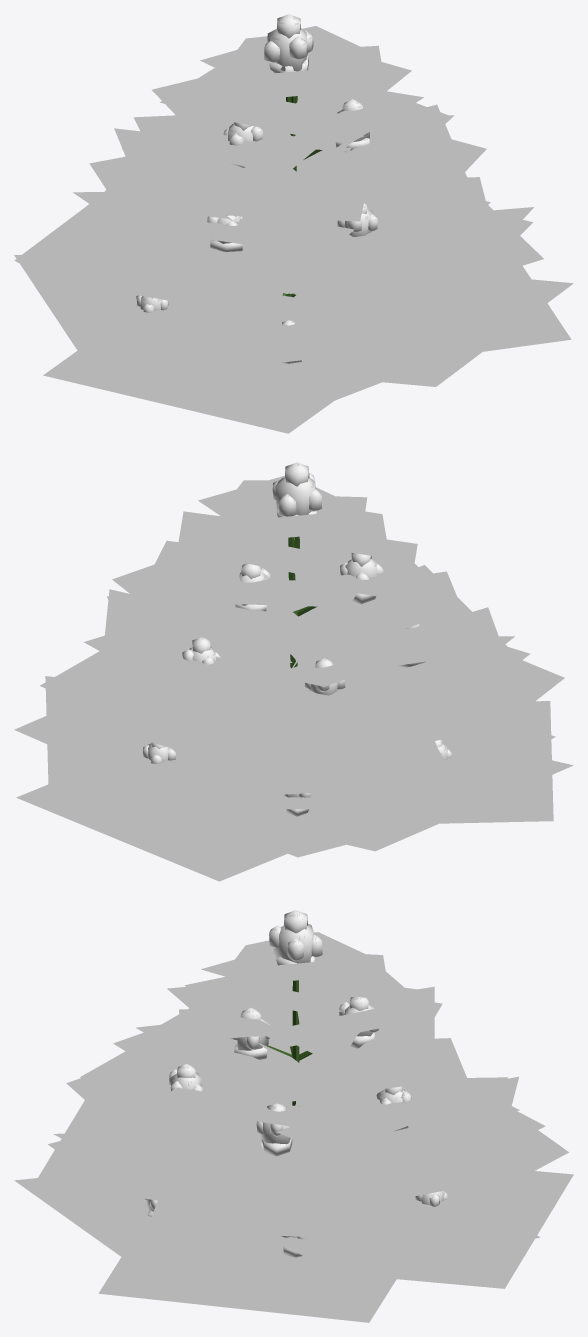
Rendered from bushy_2.obj.
3 renders of one model, top to bottom at view 1: azimuth 30°, elevation 25°; view 2: azimuth 150°, elevation 25°; view 3: azimuth 270°, elevation 25°, orthographic.
Parts seen in each view (by area): view 1: plant; view 2: plant; view 3: plant.
Part boxes in pixels (left/top/right/bottom): plant: left=14, top=14, right=573, bottom=433; plant: left=14, top=462, right=573, bottom=881; plant: left=14, top=910, right=573, bottom=1322.
Bounding box in the file's own units: 1.18 × 0.842 × 1.16.
